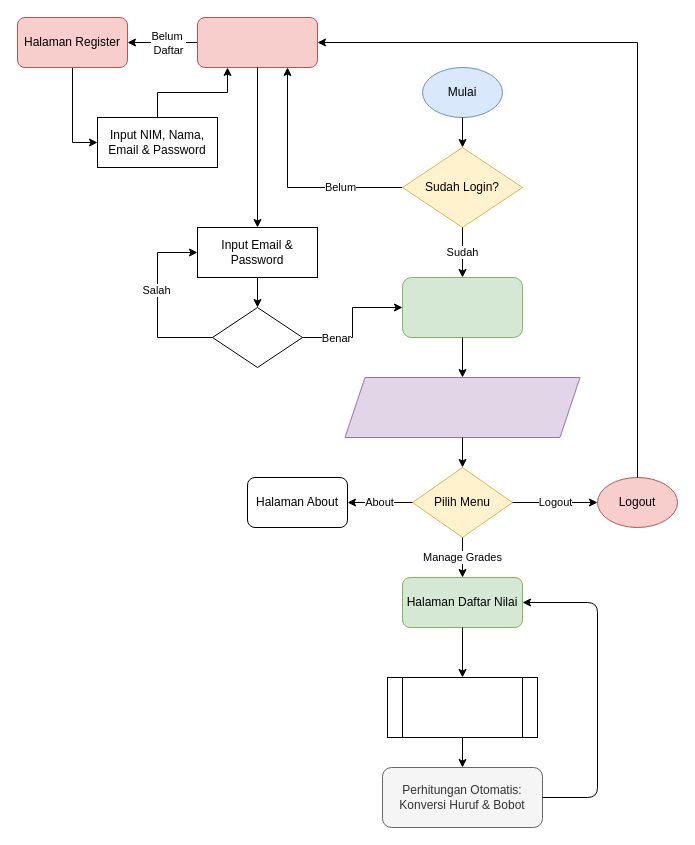
Some shapes in this 695 by 845 pixel diagram are drawn without their labels. Here are the shapes that lost their labels. From the top down, the box of each, then its label:
(196, 16, 318, 68): Halaman Login
(402, 276, 522, 338): Halaman Dashboard
(212, 306, 302, 368): Validasi Login
(344, 376, 580, 438): Tampilkan: IPK, SKS, Grafik Tren IPS
(386, 676, 538, 738): Tambah / Edit / Hapus Nilai
